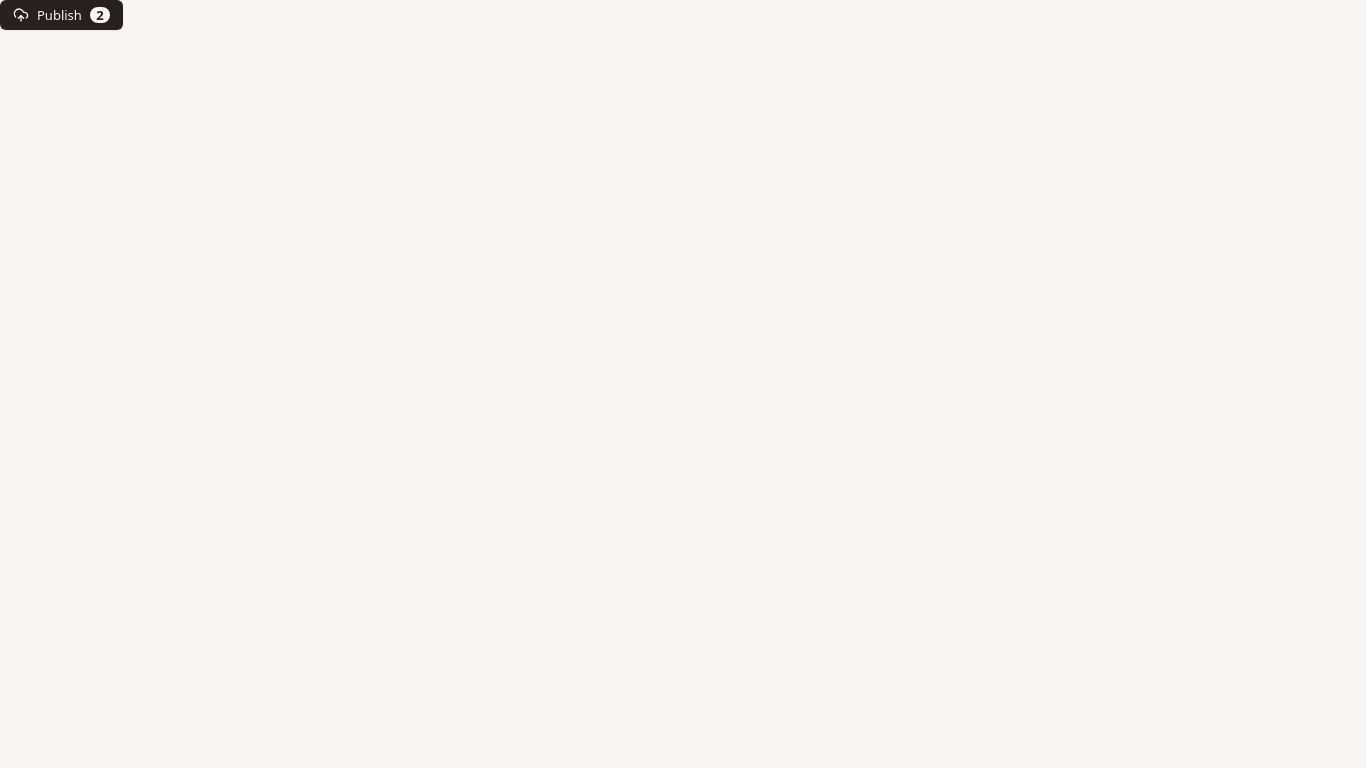
PublishButton › discards one file and then all, each after confirming
The width and height of the screenshot is (1366, 768).
What coordinates should you click on to do the following:
click the button with aria-label "Publish ("
I would click on:
 (61, 15)
Its box is [0,0,123,30].
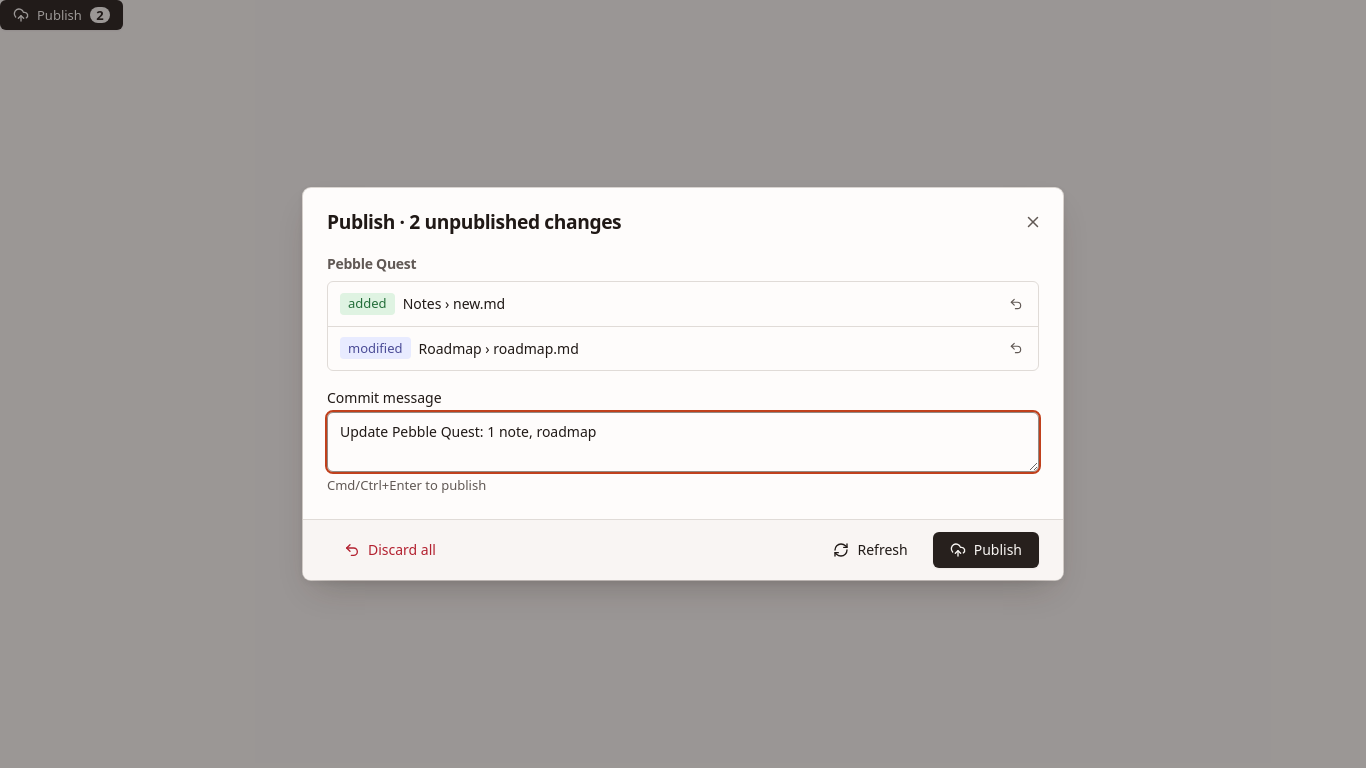
What coordinates should you click on to do the following:
click the button named "Discard changes to Pebble Quest › Notes › new.md"
I would click on:
 (1016, 304)
Its box is [1002,290,1030,318].
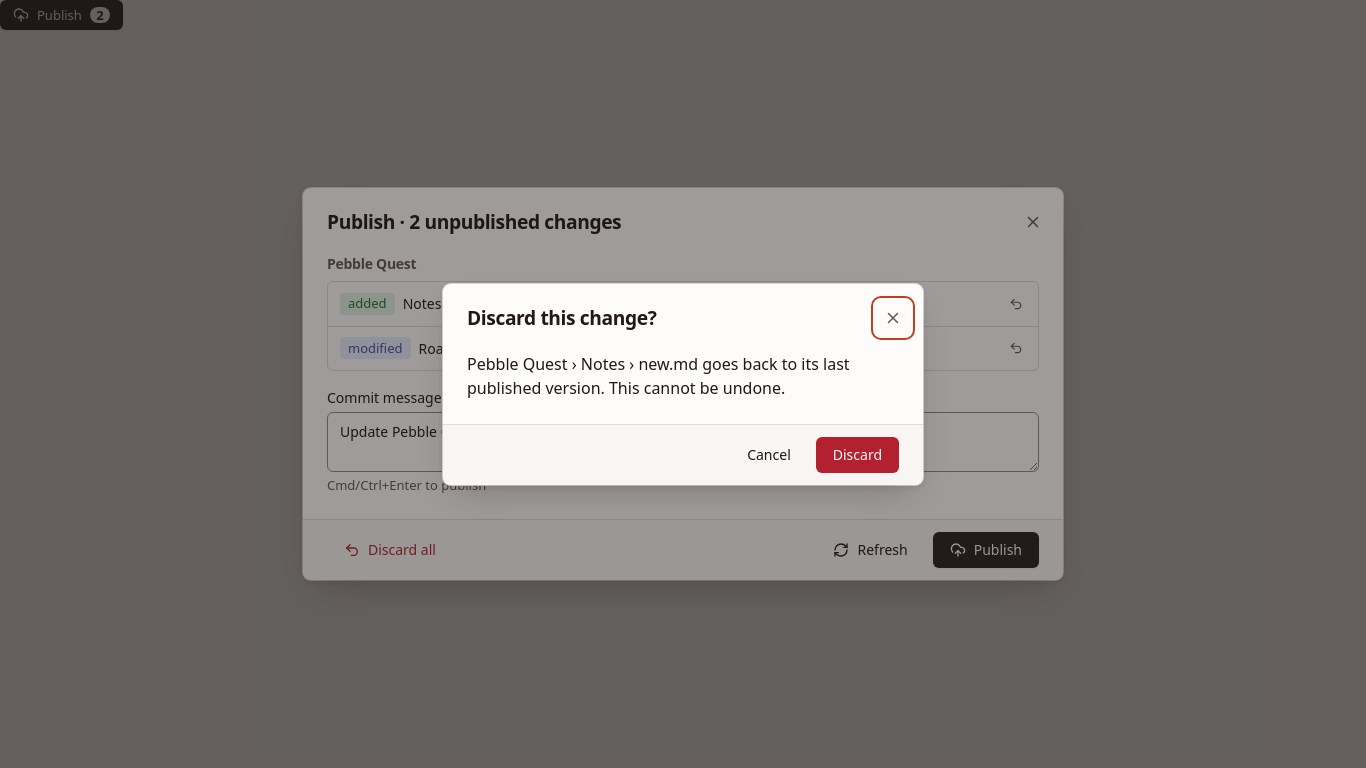
What coordinates should you click on to do the following:
click the button "Discard"
I would click on:
 (857, 454)
Its box is [816,436,899,472].
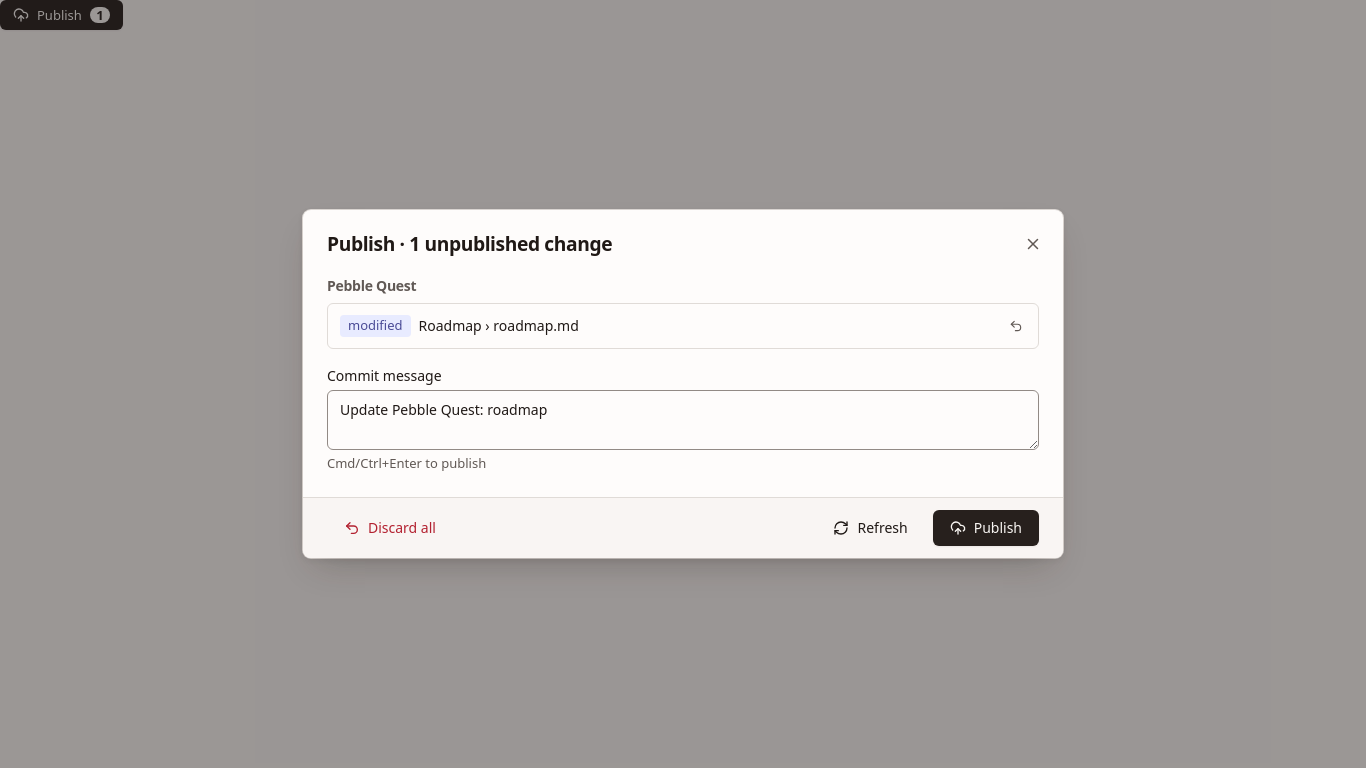
What coordinates should you click on to do the following:
click the button "Discard all"
I would click on:
 (390, 528)
Its box is [327,510,453,546].
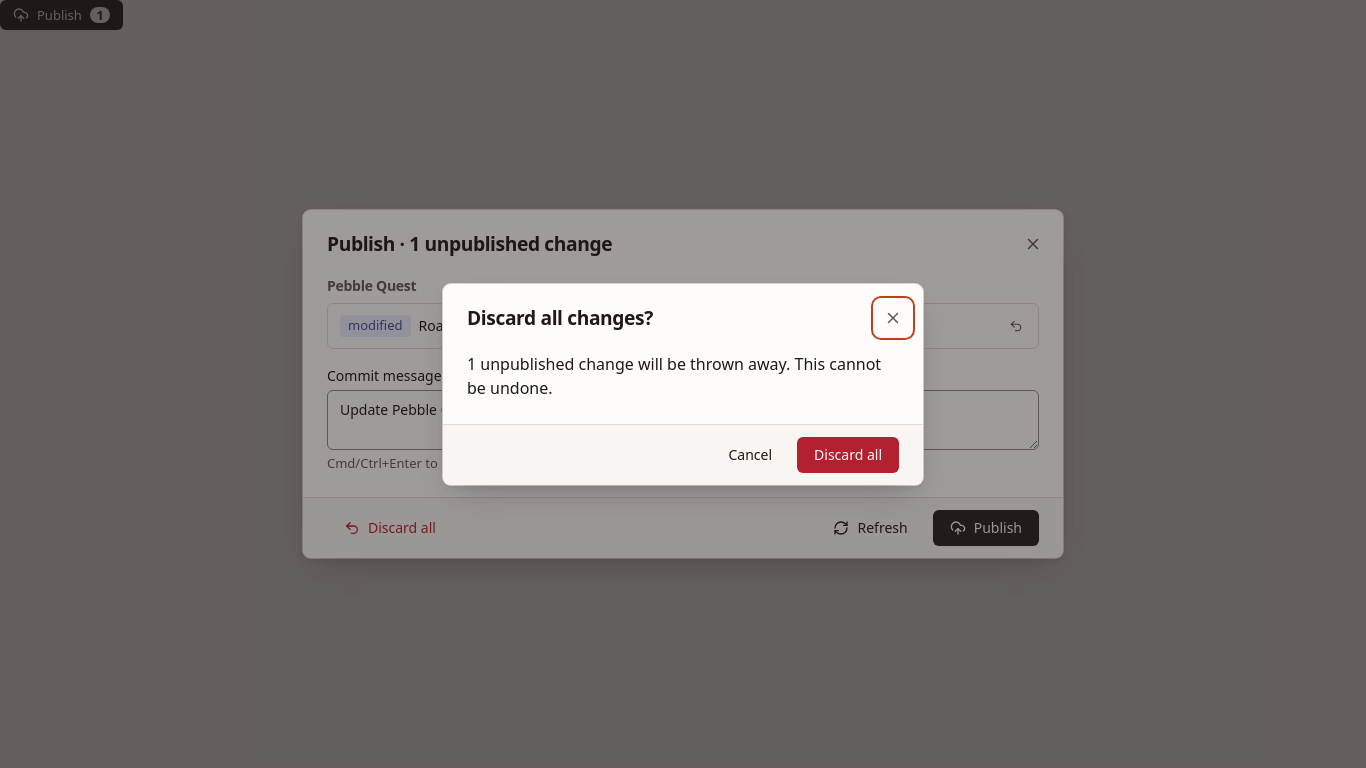
What coordinates should you click on to do the following:
click the button "Discard all"
I would click on:
 (848, 454)
Its box is [797,436,899,472].
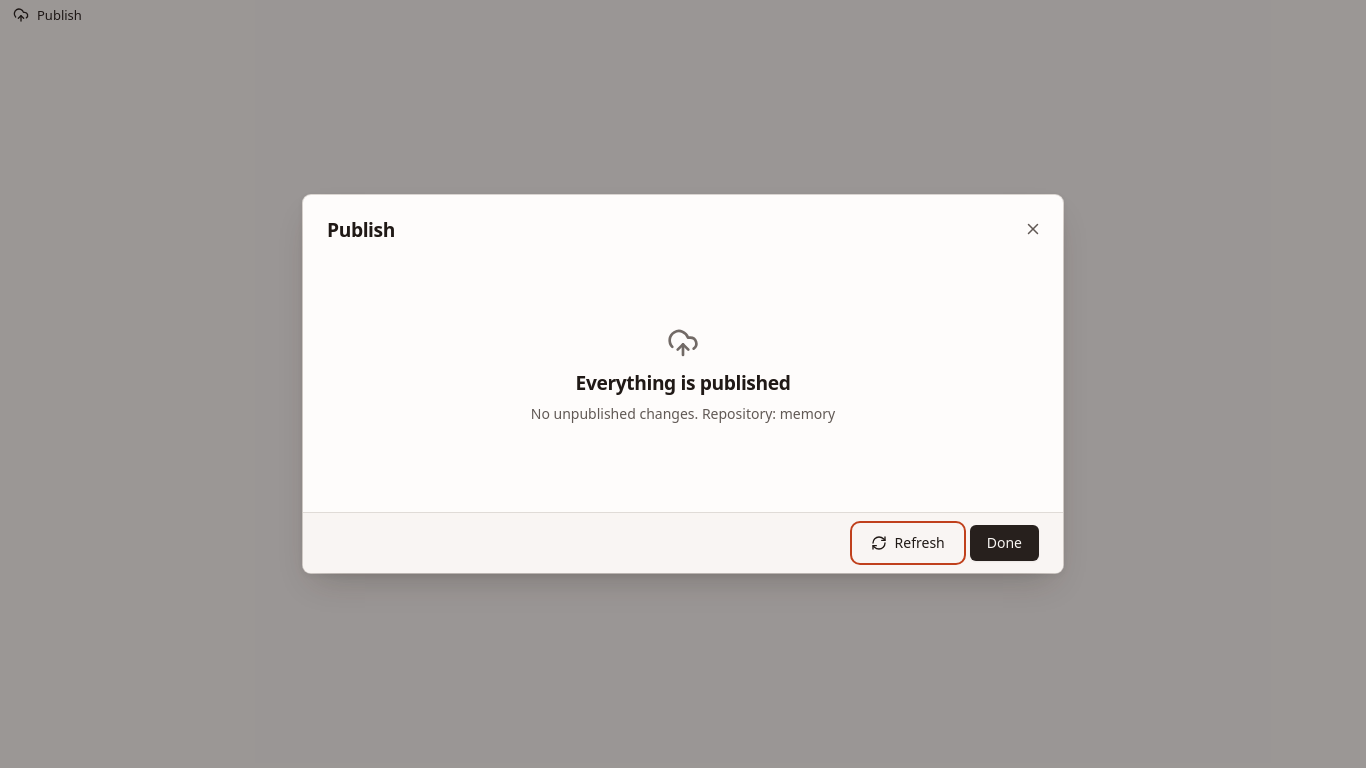
expect the heading "Everything is published" is shown: met, box [576,372,790,394]
